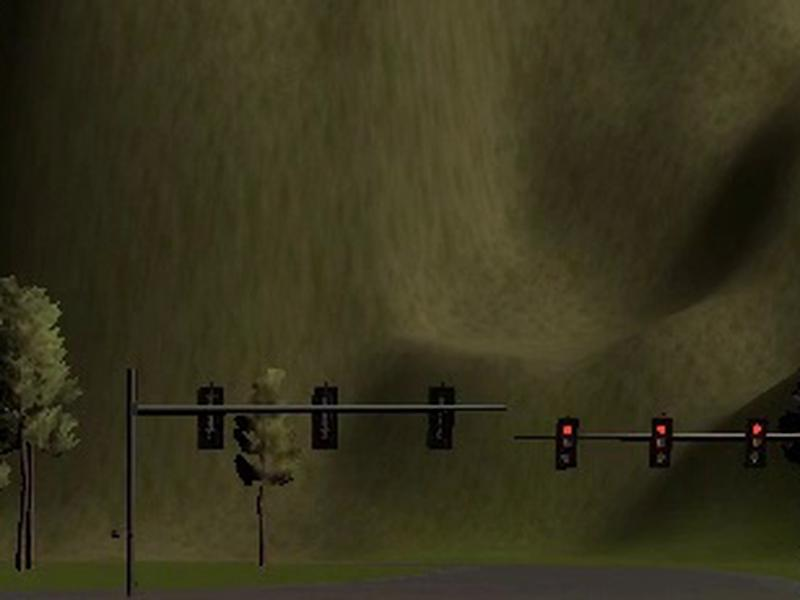Red: (556, 419, 580, 472), (650, 417, 674, 468), (743, 420, 767, 467)
